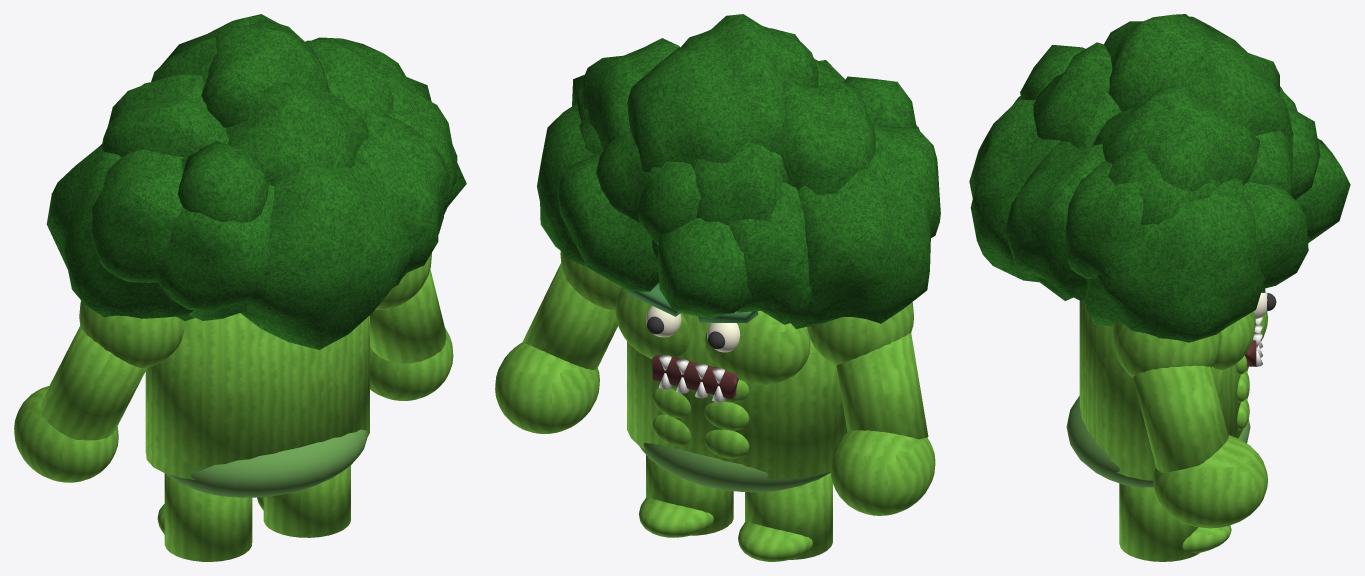
The model's file is broccoli_brute.glb.
The picture shows the model from 3 angles, left to right: view 1: azimuth 30°, elevation 25°; view 2: azimuth 150°, elevation 25°; view 3: azimuth 270°, elevation 25°; orthographic projection.
Parts seen in each view (by area): view 1: Cylinder, Icosphere.003, Icosphere.004, Icosphere.011, Icosphere.012, Icosphere.001, Icosphere.017, Icosphere.005, Icosphere.009, Cylinder.001, Sphere, Cylinder.002 (+11 smaller); view 2: Icosphere.001, Cylinder, Icosphere.008, Icosphere.009, Icosphere.007, Icosphere.019, Icosphere.006, Sphere.009, Sphere.013, Cylinder.001, Icosphere.014, Cylinder.003 (+24 smaller); view 3: Icosphere.002, Icosphere.010, Cylinder, Icosphere.005, Icosphere.003, Cylinder.003, Icosphere.013, Icosphere.008, Sphere.013, Icosphere.017, Icosphere.011, Icosphere.007 (+10 smaller).
Part boxes in pixels (<box>): Cylinder: <box>145,313,369,479</box>; Icosphere.003: <box>240,151,416,349</box>; Icosphere.004: <box>152,150,274,320</box>; Icosphere.011: <box>226,82,369,186</box>; Icosphere.012: <box>92,149,184,282</box>; Icosphere.001: <box>46,144,194,321</box>; Icosphere.017: <box>201,20,329,127</box>; Icosphere.005: <box>357,113,450,273</box>; Icosphere.009: <box>102,74,228,157</box>; Cylinder.001: <box>41,326,146,440</box>; Sphere: <box>166,429,368,497</box>; Cylinder.002: <box>164,473,252,561</box>; Icosphere.001: <box>791,155,930,328</box>; Cylinder: <box>627,313,847,479</box>; Icosphere.008: <box>627,47,801,172</box>; Icosphere.009: <box>774,80,875,194</box>; Icosphere.007: <box>557,152,659,291</box>; Icosphere.019: <box>657,218,754,318</box>; Icosphere.006: <box>729,182,811,324</box>; Sphere.009: <box>830,430,935,515</box>; Sphere.013: <box>495,342,599,433</box>; Cylinder.001: <box>836,333,928,439</box>; Icosphere.014: <box>690,143,782,225</box>; Cylinder.003: <box>522,263,617,370</box>; Icosphere.002: <box>1085,194,1265,342</box>; Icosphere.010: <box>1093,87,1260,191</box>; Cylinder: <box>1079,301,1242,480</box>; Icosphere.005: <box>1005,141,1105,303</box>; Icosphere.003: <box>969,99,1073,300</box>; Cylinder.003: <box>1133,365,1228,472</box>; Icosphere.013: <box>1065,160,1160,278</box>; Icosphere.008: <box>1181,16,1293,142</box>; Sphere.013: <box>1153,435,1267,528</box>; Icosphere.017: <box>1104,14,1209,111</box>; Icosphere.011: <box>1033,42,1121,147</box>; Icosphere.007: <box>1243,182,1308,288</box>.
Size of the model in its own units: 2.22 by 2.57 by 1.75.
8 materials, 2 textured.
